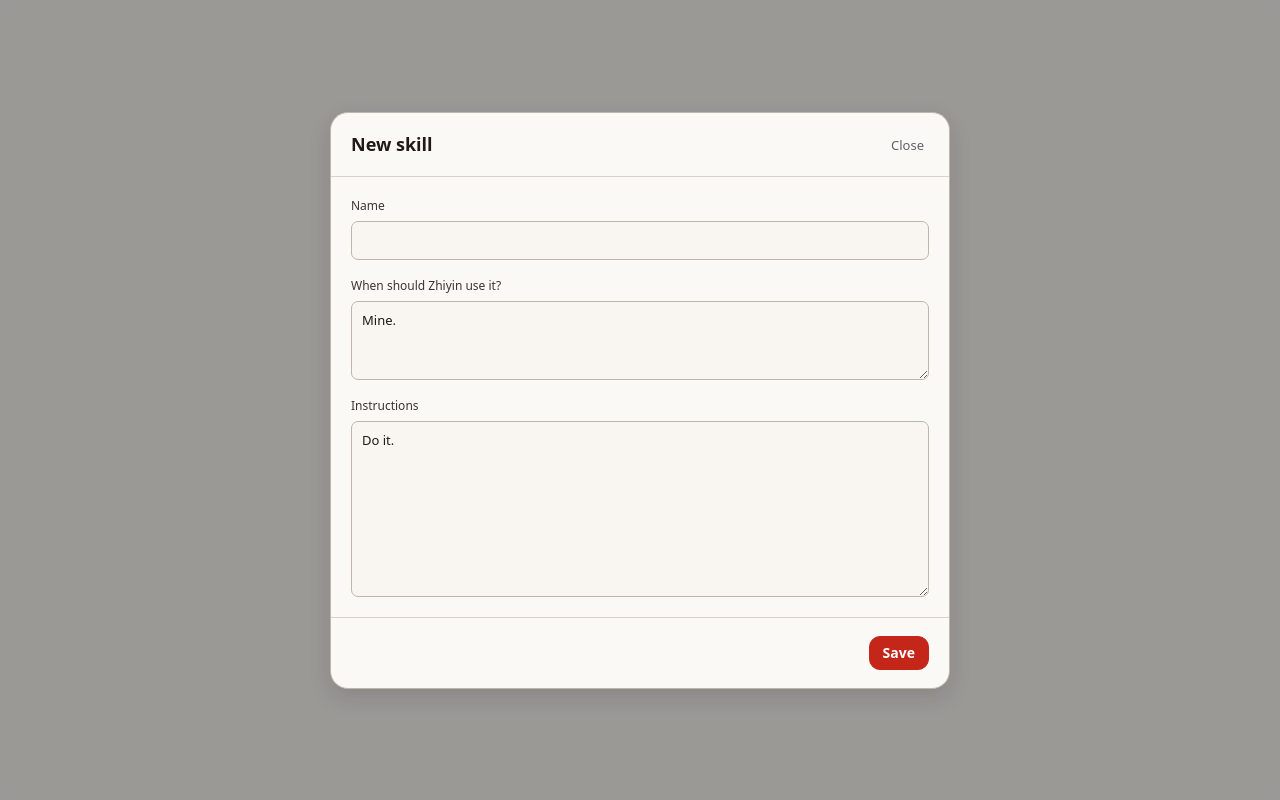
ComponentEditor › asks for a name without emoji, for a skill
In the field labelled "Name": x=640, y=240 [351, 220, 929, 260], type "Charts 📊"
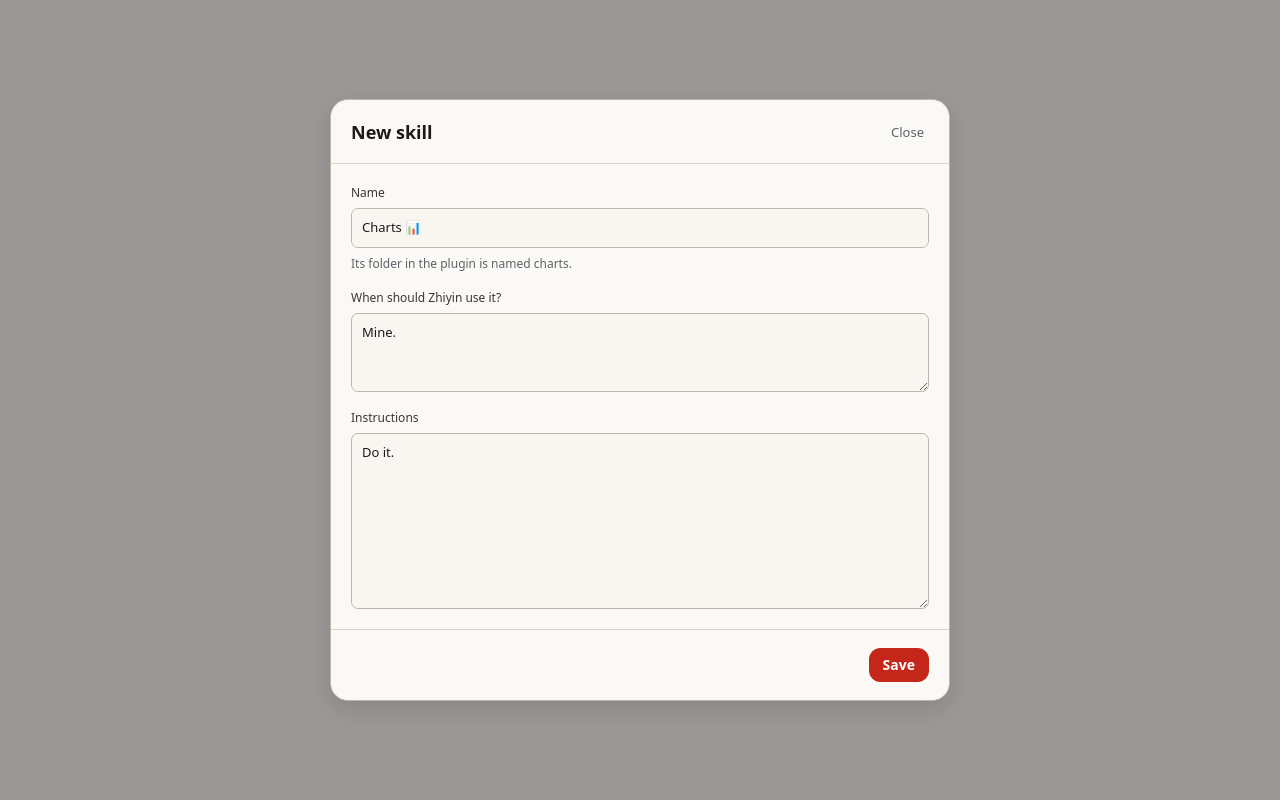
Click the button "Save": x=899, y=665 [869, 648, 929, 682]
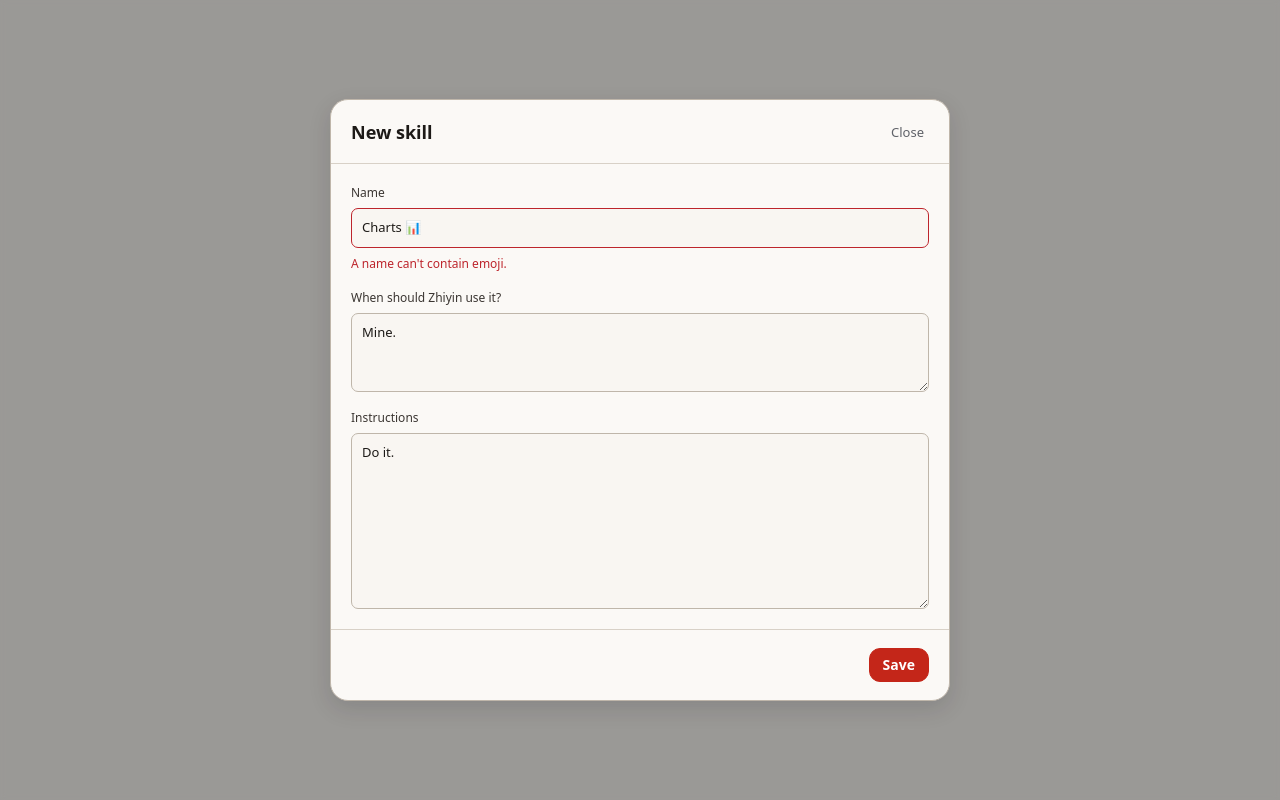
Expected: the text "A name can't contain emoji." is shown, [351, 255, 507, 272]
